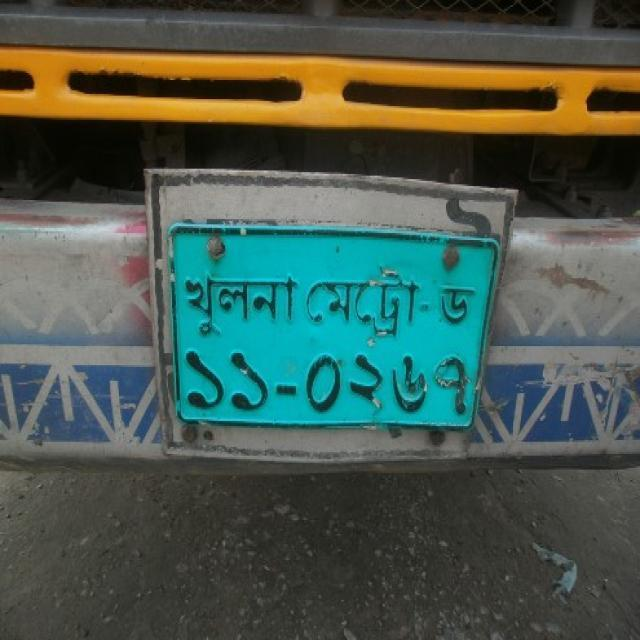numberplate: (144, 167, 519, 449)
